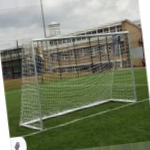goals: (16, 29, 138, 131)
